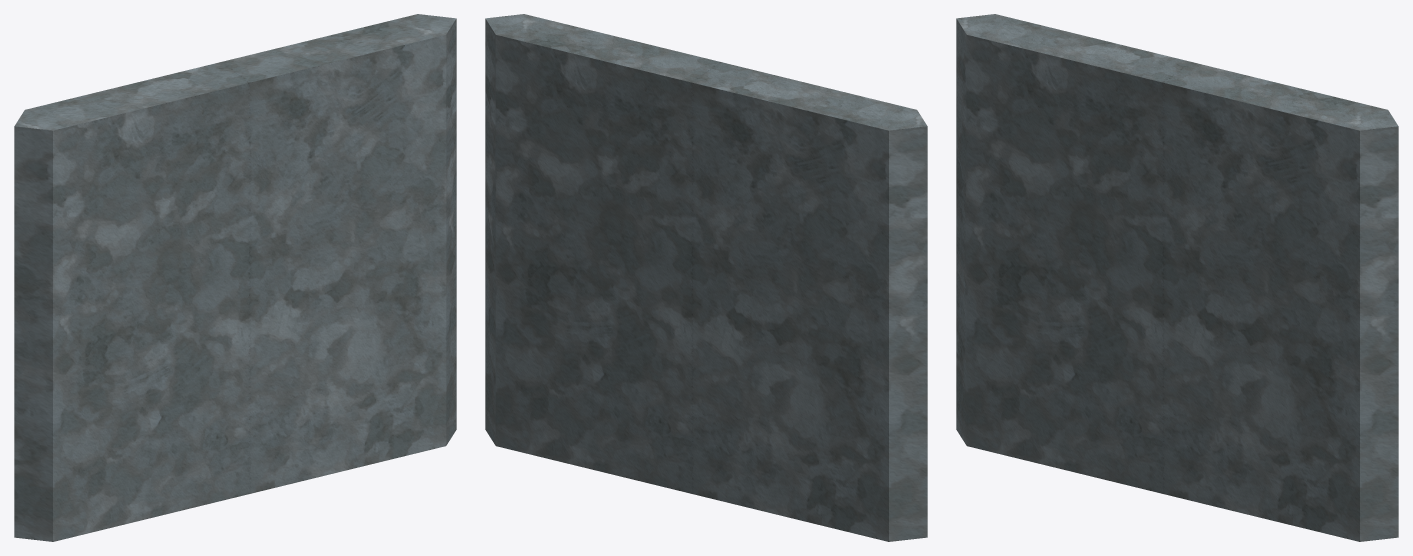
The model's file is wall_plain.fbx.
3 views of the same model, side by side, from view 1: azimuth 30°, elevation 25°; view 2: azimuth 150°, elevation 25°; view 3: azimuth 330°, elevation 25° (orthographic).
Visible parts, largest first — view 1: wall; view 2: wall; view 3: wall.
Part boxes in pixels (x1,y1,x2,y2): wall: (14, 14, 456, 541); wall: (485, 14, 927, 541); wall: (956, 14, 1398, 541).
Size of the model in its own units: 11.25 by 10 by 1.25.
Materials: 1 (1 with a texture image).
